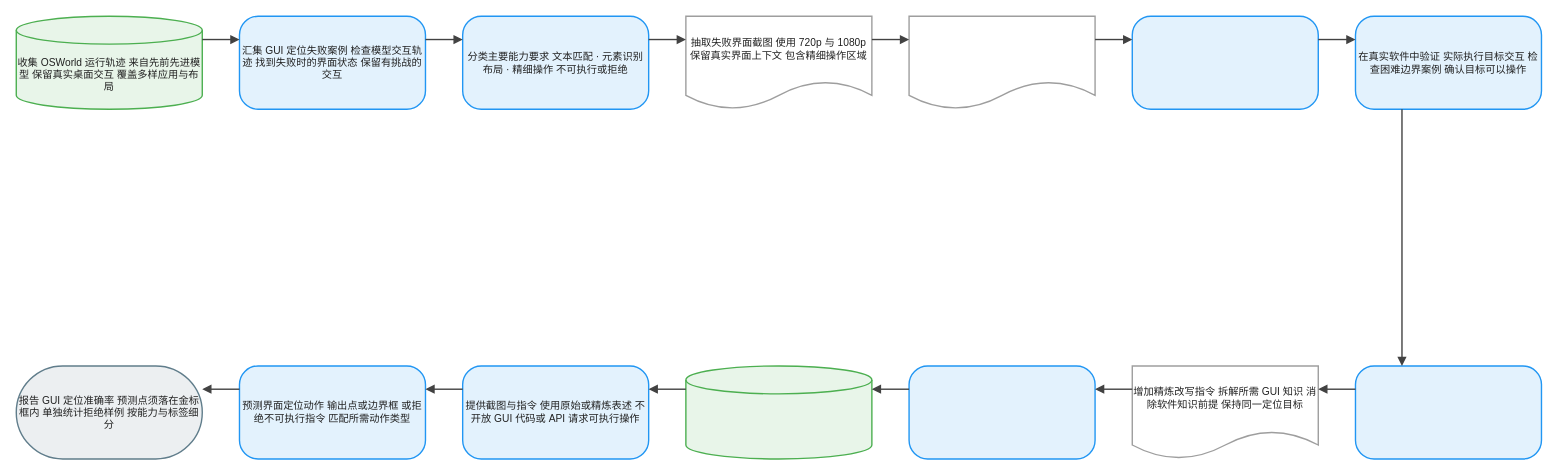
This 1559x476 diagram has some shape labels left out. Here are the shapes that lost their labels. From the top down, the centre of each, then its label:
At (1001,62): "专家编写操作指令 标注员熟悉相关软件 描述底层具体动作 目标唯一且无歧义".
At (1225,62): "在 CVAT 精确框选区域 配对指令与截图 标注目标边界框 覆盖字符级操作".
At (778,412): "发布 OSWorld-G 564 个桌面样例 覆盖五类定位能力 含 54 个拒绝样例".
At (1001,412): "分配细粒度 UI 标签 共 32 类界面元素 同含视觉与功能标签 跟踪能力覆盖".
At (1448,412): "开展多轮质量复核 利用初步模型反馈 解决不一致标注 复查强模型预测".
